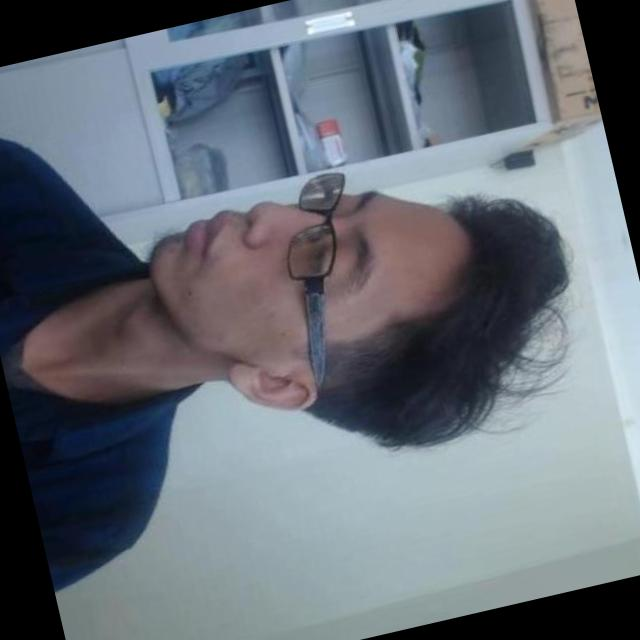bareface: (97, 34, 630, 577)
